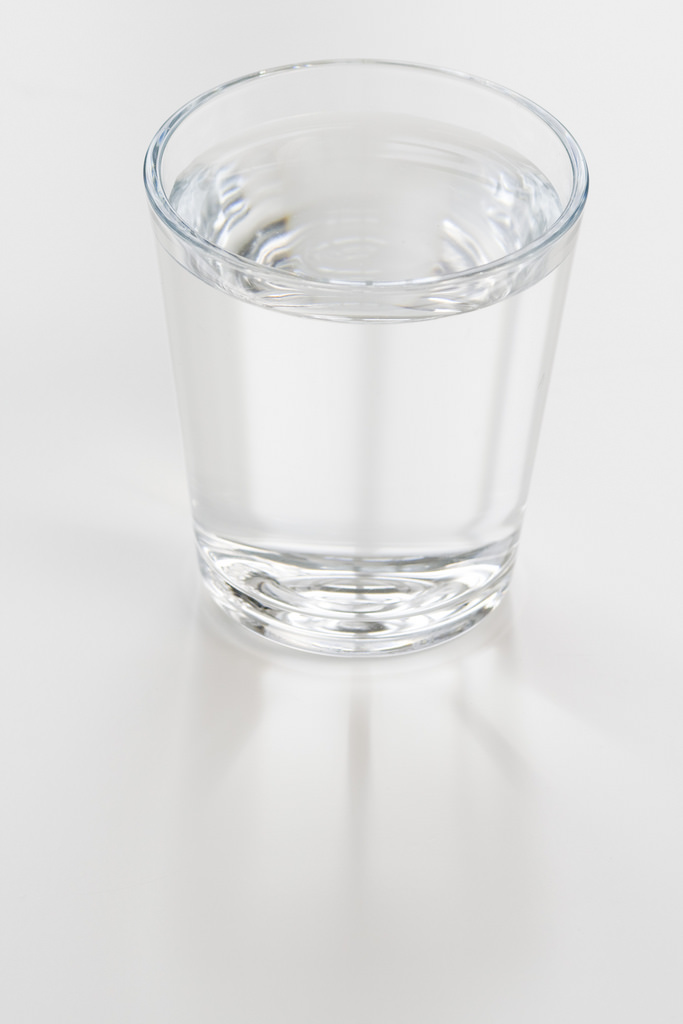glass of water: (147, 27, 574, 676)
